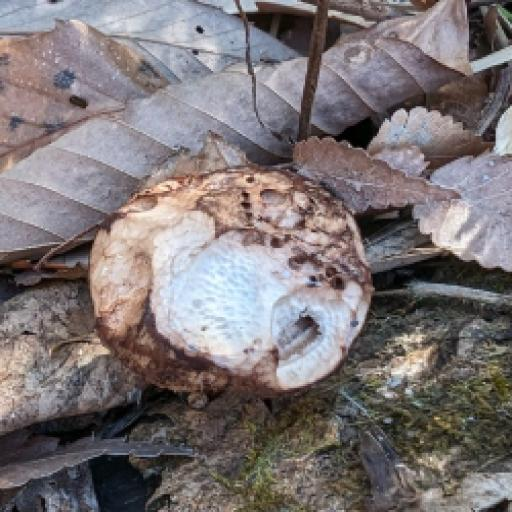Shiitake Mushroom: (99, 167, 367, 390)
